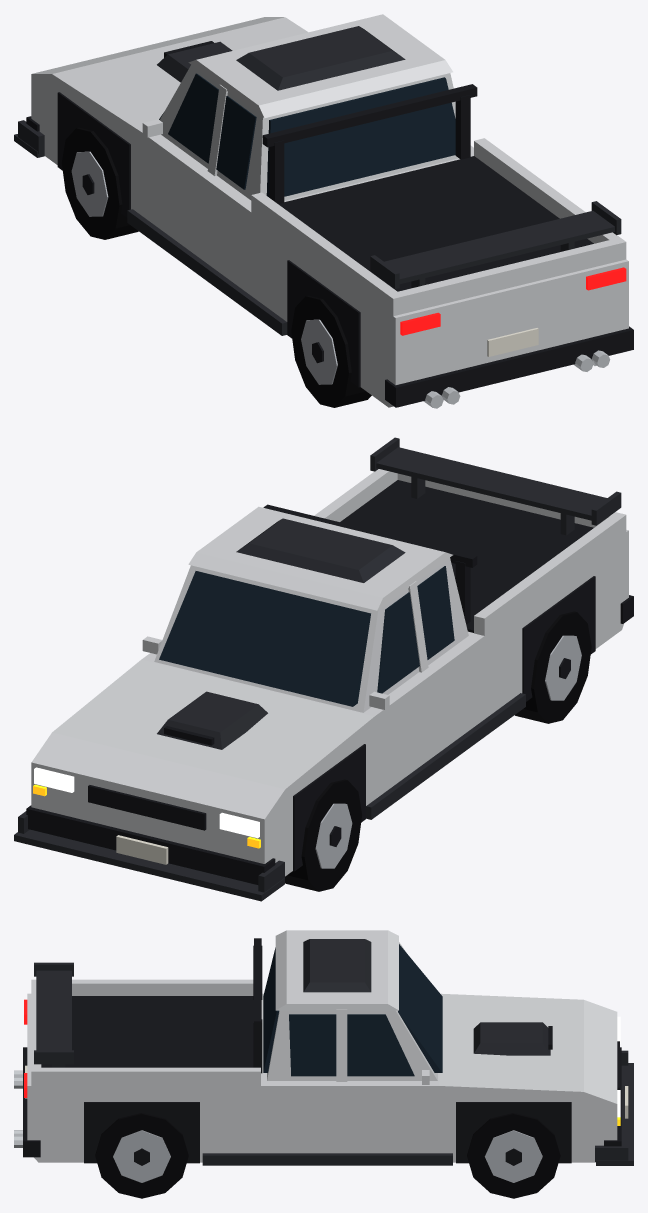
Rendered from car_pickup.glb.
3 views of the same model, one above another, from view 1: azimuth 30°, elevation 25°; view 2: azimuth 150°, elevation 25°; view 3: azimuth 270°, elevation 25° (orthographic). The views are drawn at different scales.
Visible parts, largest first — view 1: car_pickup__body, car_pickup__mod_spoiler, car_pickup__mod_roof, car_pickup__wheel_rl, car_pickup__wheel_fl, car_pickup__mod_skirts, car_pickup__mod_hood, car_pickup__mod_exhaust, car_pickup__mod_bumper; view 2: car_pickup__body, car_pickup__mod_spoiler, car_pickup__mod_roof, car_pickup__wheel_fl, car_pickup__wheel_rl, car_pickup__mod_bumper, car_pickup__mod_hood, car_pickup__mod_skirts; view 3: car_pickup__body, car_pickup__wheel_rr, car_pickup__wheel_fr, car_pickup__mod_spoiler, car_pickup__mod_roof, car_pickup__mod_skirts, car_pickup__mod_hood, car_pickup__mod_bumper.
Part boxes in pixels (x1,y1,x2,y2): car_pickup__body: [26, 14, 633, 407]; car_pickup__mod_spoiler: [370, 201, 621, 289]; car_pickup__mod_roof: [236, 26, 405, 90]; car_pickup__wheel_rl: [291, 295, 371, 407]; car_pickup__wheel_fl: [61, 127, 138, 239]; car_pickup__mod_skirts: [127, 209, 287, 335]; car_pickup__mod_hood: [157, 41, 232, 82]; car_pickup__mod_exhaust: [423, 350, 610, 408]; car_pickup__mod_bumper: [14, 120, 44, 157]; car_pickup__body: [26, 469, 633, 884]; car_pickup__mod_spoiler: [370, 437, 621, 535]; car_pickup__mod_roof: [236, 518, 405, 582]; car_pickup__wheel_fl: [285, 779, 361, 891]; car_pickup__wheel_rl: [515, 611, 591, 723]; car_pickup__mod_bumper: [14, 811, 284, 901]; car_pickup__mod_hood: [157, 691, 267, 749]; car_pickup__mod_skirts: [366, 693, 525, 819]; car_pickup__body: [23, 930, 628, 1163]; car_pickup__wheel_rr: [95, 1113, 188, 1198]; car_pickup__wheel_fr: [467, 1113, 560, 1198]; car_pickup__mod_spoiler: [34, 962, 73, 1067]; car_pickup__mod_roof: [303, 939, 371, 992]; car_pickup__mod_skirts: [202, 1153, 452, 1165]; car_pickup__mod_hood: [473, 1022, 552, 1055]; car_pickup__mod_bumper: [595, 1050, 633, 1165].
Size of the model in its own units: 2.09 by 1.88 by 5.57.
